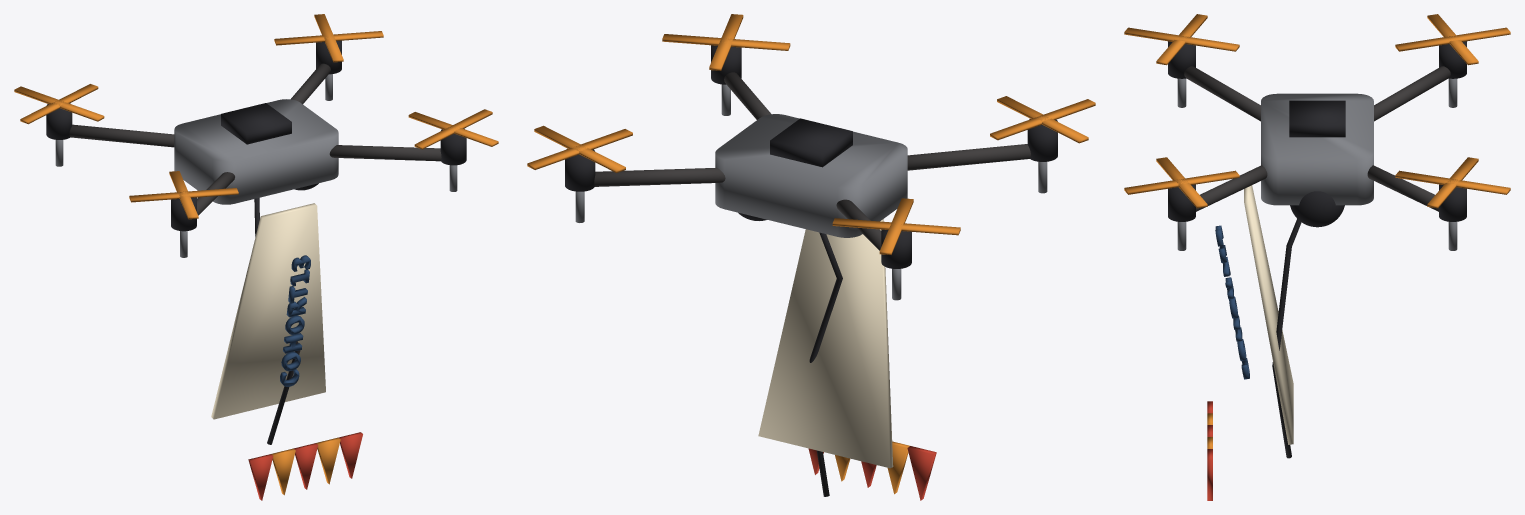
File: drone-2.glb
3 views of the same model, side by side, from view 1: azimuth 30°, elevation 25°; view 2: azimuth 150°, elevation 25°; view 3: azimuth 270°, elevation 25° (orthographic). The views are drawn at different scales.
Parts seen in each view (by area): view 1: part24, part0, part5, part1, part3, part25, part26, part7; view 2: part24, part0, part5, part1, part3, part26, part7; view 3: part0, part5, part1, part3, part24, part2, part25, part7, part26.
Boxes of the visible parts, left/top/right/bottom form: part24: left=211, top=203, right=325, bottom=419; part0: left=174, top=99, right=338, bottom=204; part5: left=14, top=14, right=498, bottom=495; part1: left=46, top=40, right=466, bottom=444; part3: left=69, top=63, right=441, bottom=215; part25: left=280, top=255, right=310, bottom=386; part26: left=248, top=432, right=362, bottom=500; part7: left=55, top=74, right=457, bottom=257; part24: left=758, top=219, right=893, bottom=468; part0: left=715, top=114, right=907, bottom=237; part5: left=527, top=14, right=1095, bottom=494; part1: left=565, top=45, right=1057, bottom=496; part3: left=594, top=72, right=1030, bottom=250; part26: left=808, top=446, right=936, bottom=500; part7: left=575, top=84, right=1047, bottom=300; part0: left=1261, top=93, right=1373, bottom=205; part5: left=1124, top=14, right=1510, bottom=448; part1: left=1168, top=41, right=1466, bottom=458; part3: left=1184, top=66, right=1450, bottom=211; part24: left=1244, top=185, right=1293, bottom=444; part2: left=1290, top=191, right=1344, bottom=227; part25: left=1215, top=225, right=1249, bottom=379; part7: left=1177, top=78, right=1457, bottom=250; part26: left=1207, top=401, right=1212, bottom=500.
Size of the model in its own units: 1 by 0.8922 by 0.8508.
